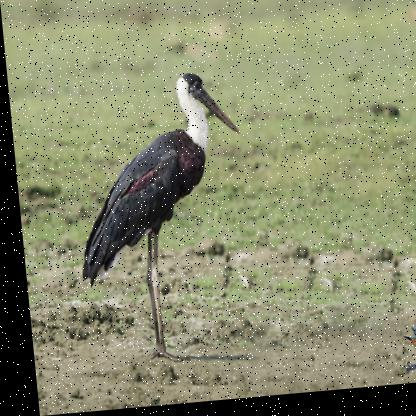Burung: (62, 73, 256, 386)
